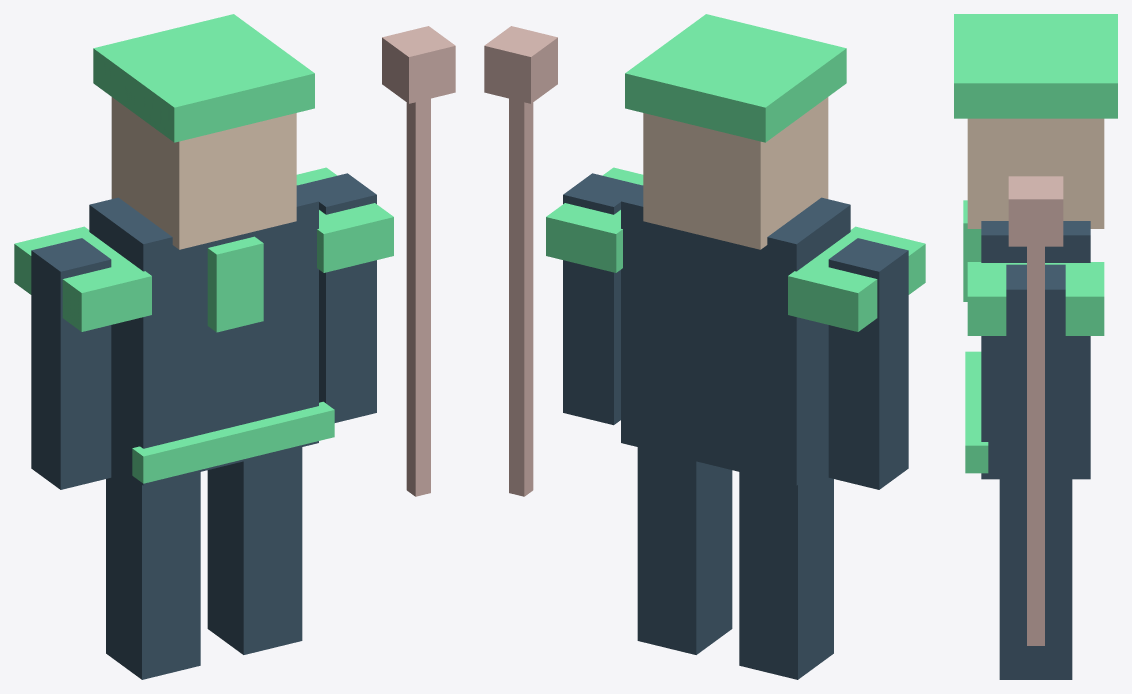
Rendered from 15_edda_gantryn_keeper_at_security.glb.
3 renders of one model, left to right at view 1: azimuth 30°, elevation 25°; view 2: azimuth 150°, elevation 25°; view 3: azimuth 270°, elevation 25°, orthographic.
Visible parts, largest first — view 1: Edda Gantryn, Keeper at Security; view 2: Edda Gantryn, Keeper at Security; view 3: Edda Gantryn, Keeper at Security.
Boxes of the visible parts, left/top/right/bottom form: Edda Gantryn, Keeper at Security: left=14, top=14, right=455, bottom=679; Edda Gantryn, Keeper at Security: left=484, top=14, right=925, bottom=679; Edda Gantryn, Keeper at Security: left=954, top=14, right=1117, bottom=679.
Bounding box in the file's own units: 0.9866 × 1.4 × 0.3499.
